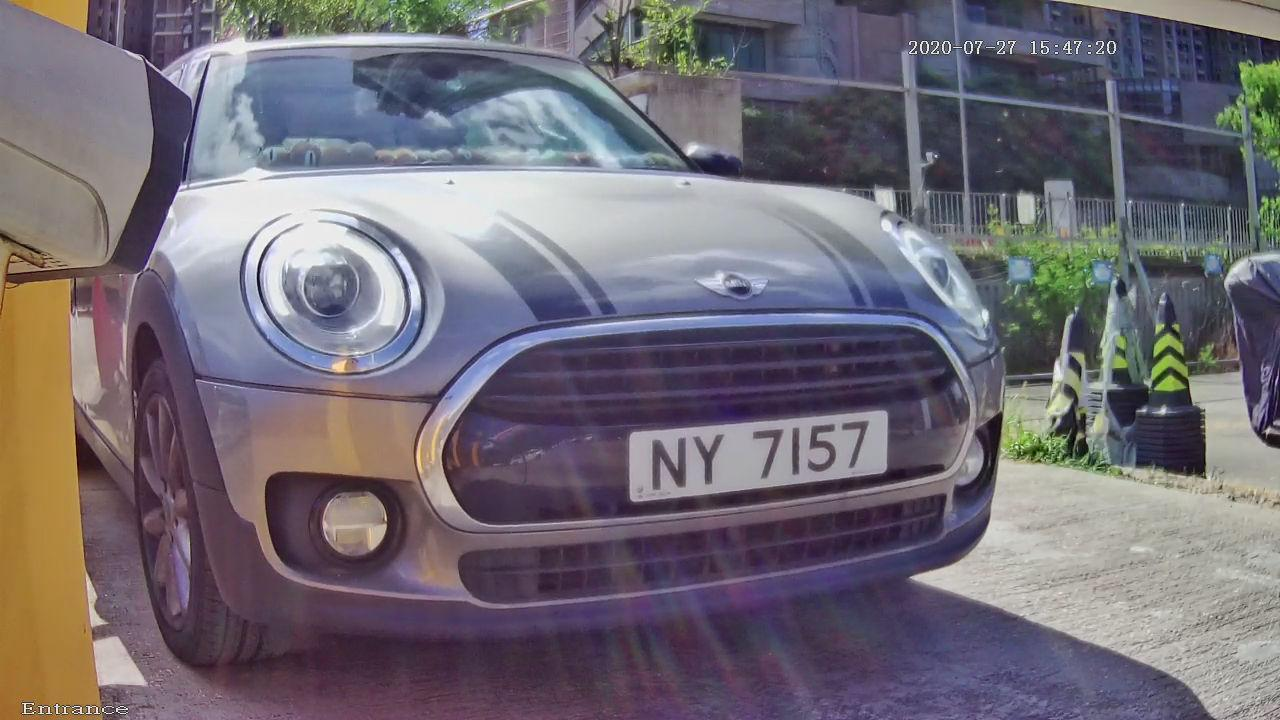privatecar: (63, 20, 1086, 676)
